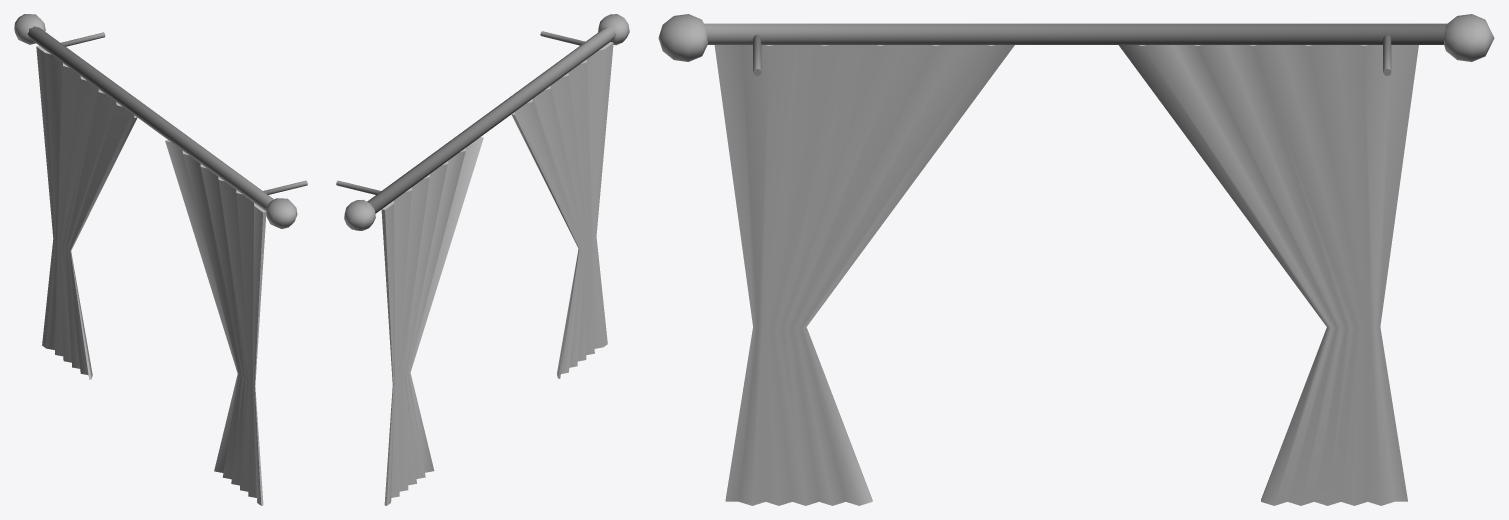
File: curtain.fbx
The picture shows the model from 3 angles, left to right: view 1: azimuth 30°, elevation 25°; view 2: azimuth 150°, elevation 25°; view 3: azimuth 270°, elevation 25°; orthographic projection. The views are drawn at different scales.
Visible parts, largest first — view 1: curtain; view 2: curtain; view 3: curtain.
Boxes of the visible parts, x1,y1,x2,y2 form: curtain: [14, 14, 307, 505]; curtain: [336, 14, 629, 505]; curtain: [658, 14, 1494, 505].
Size of the model in its own units: 0.4648 by 2.27 by 3.51.
